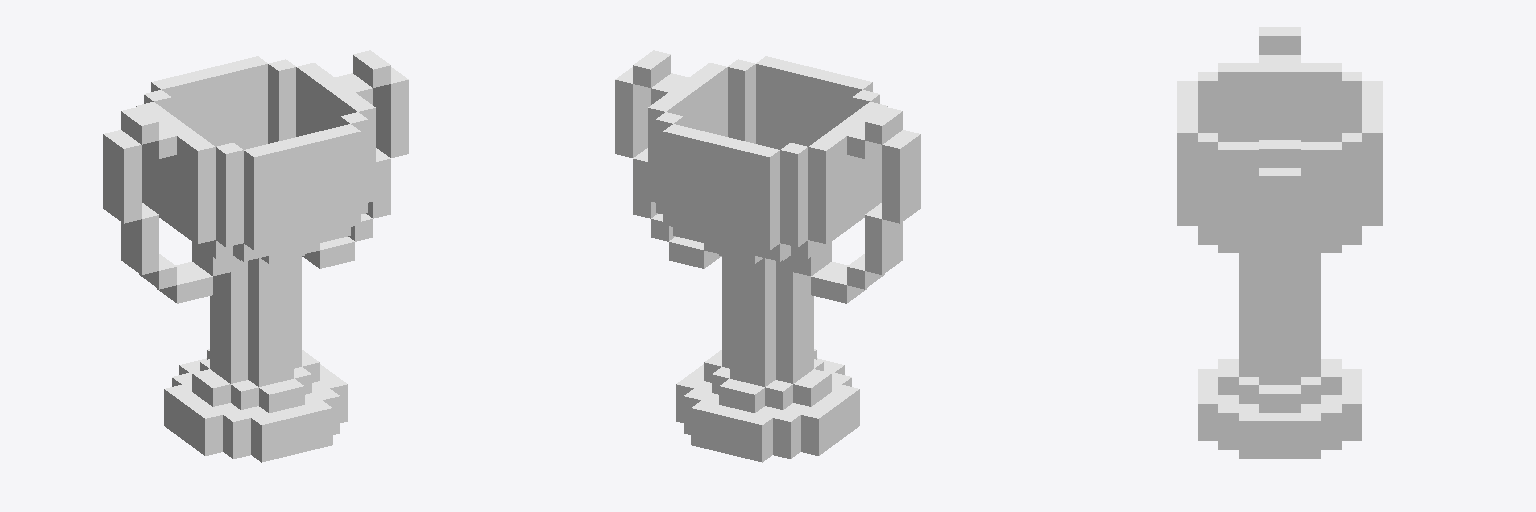
Rendered from Trophy-14.obj.
3 renders of one model, left to right at view 1: azimuth 30°, elevation 25°; view 2: azimuth 150°, elevation 25°; view 3: azimuth 270°, elevation 25°, orthographic.
Visible parts, largest first — view 1: Trophy-14; view 2: Trophy-14; view 3: Trophy-14.
Part boxes in pixels (x1,y1,x2,y2): Trophy-14: (103,50,408,462); Trophy-14: (615,50,920,462); Trophy-14: (1177,27,1382,458).
Size of the model in its own units: 16 by 18 by 10.